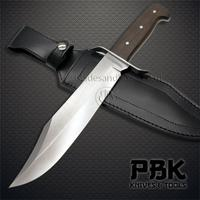knife: (6, 4, 166, 192)
